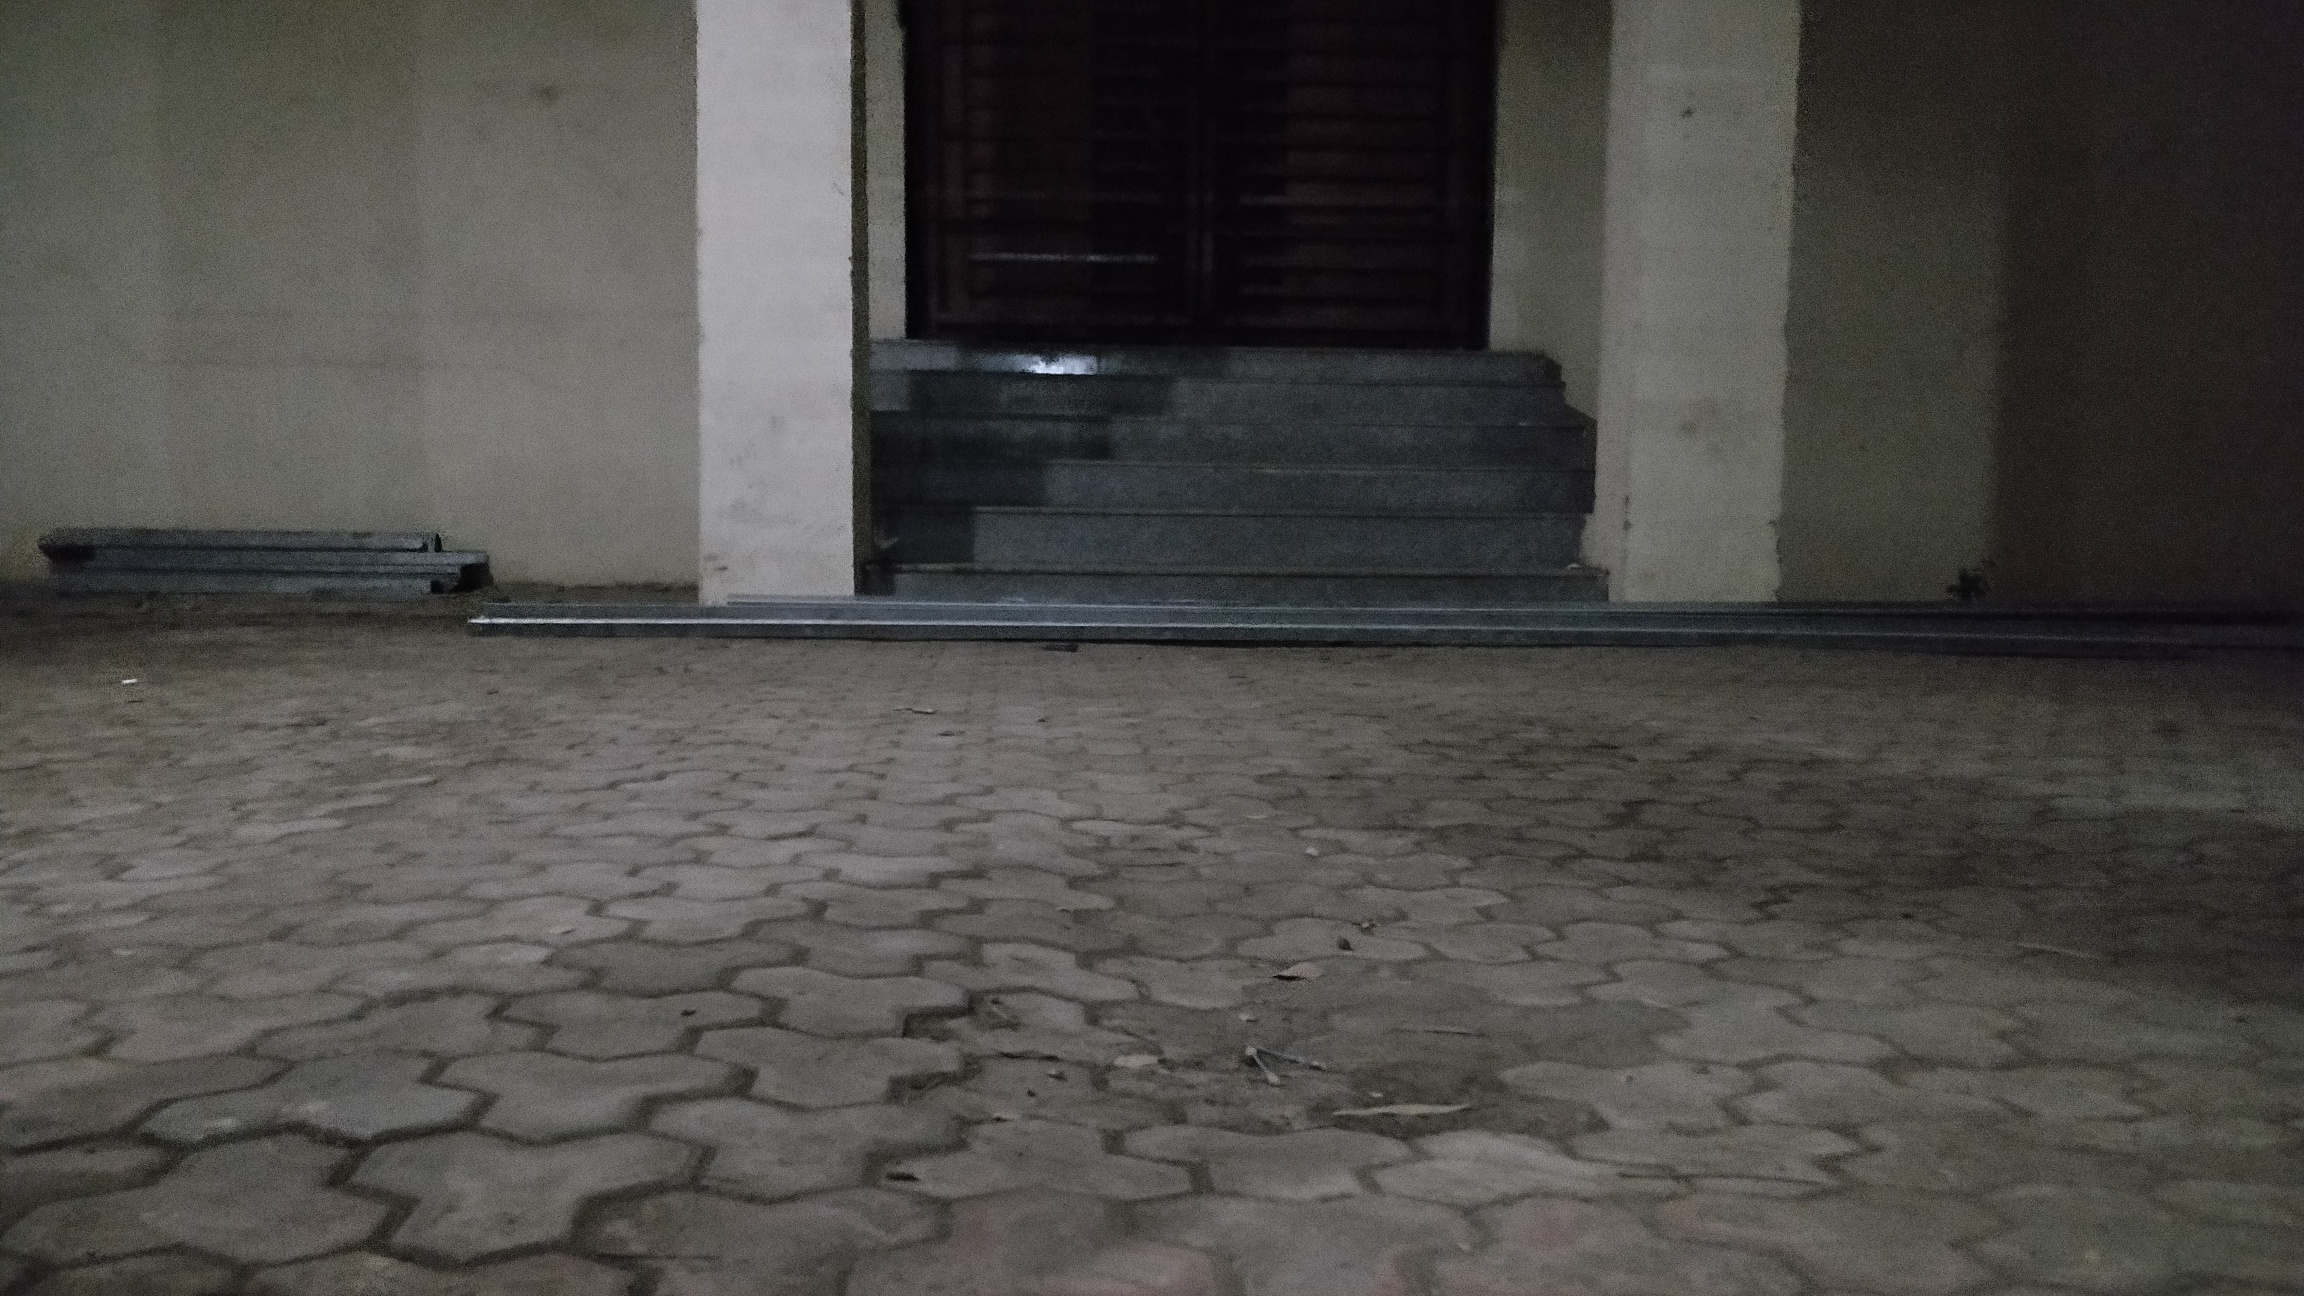stairs_up: (859, 339, 1593, 601)
